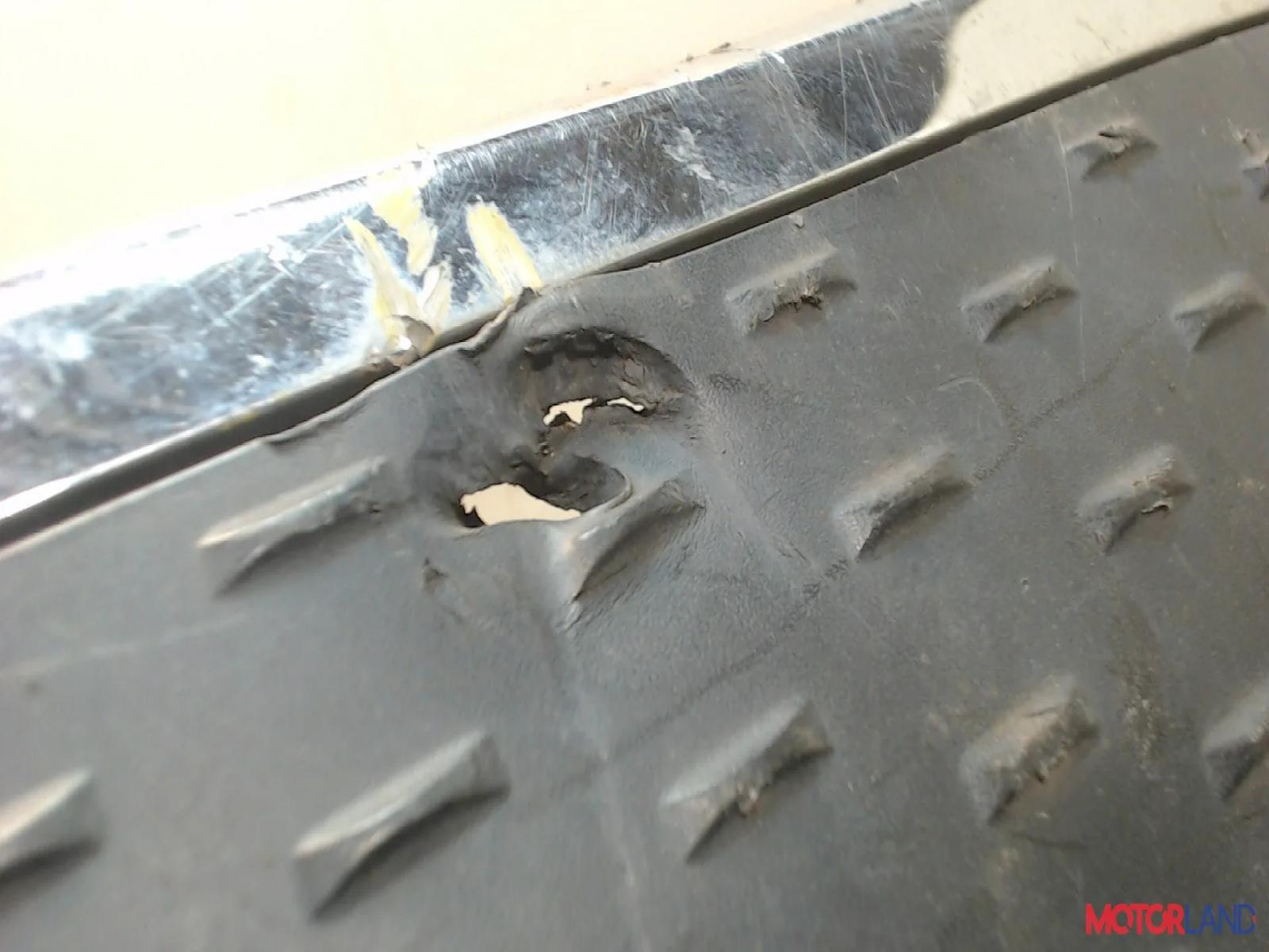Skin_Cover: (412, 313, 689, 513), (513, 327, 692, 427), (346, 187, 451, 353), (466, 202, 543, 301), (509, 457, 625, 514), (461, 483, 580, 526), (459, 495, 515, 526)
